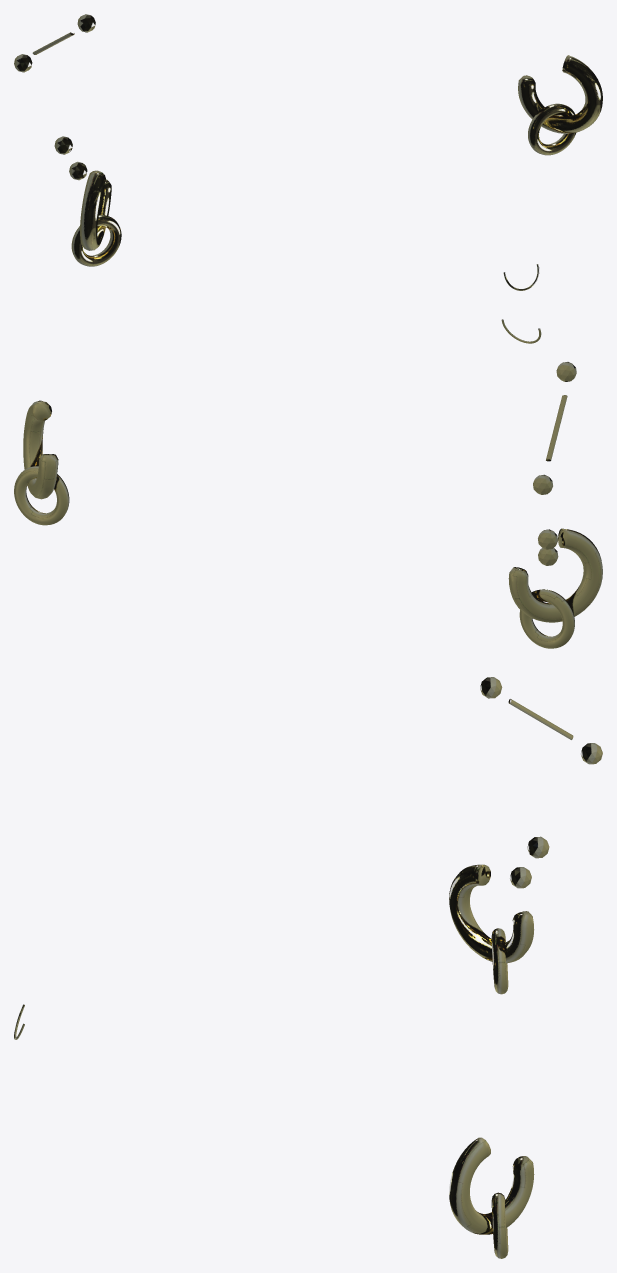
File: jewelry.glb
3 renders of one model, top to bottom at view 1: azimuth 30°, elevation 25°; view 2: azimuth 150°, elevation 25°; view 3: azimuth 270°, elevation 25°, orthographic. The views are drawn at different scales.
Visible parts, largest first — view 1: Torus, Torus.001; view 2: Torus, Torus.001; view 3: Torus, Torus.001.
Boxes of the visible parts, left/top/right/bottom form: Torus: left=80, top=55, right=602, bottom=250; Torus.001: left=71, top=103, right=575, bottom=266; Torus: left=23, top=400, right=602, bottom=622; Torus.001: left=14, top=466, right=574, bottom=648; Torus: left=449, top=864, right=534, bottom=1234; Torus.001: left=491, top=928, right=508, bottom=1258.
Bounding box in the file's own units: 17.17 × 7.95 × 13.89.
Materials: 1 (1 with a texture image).
